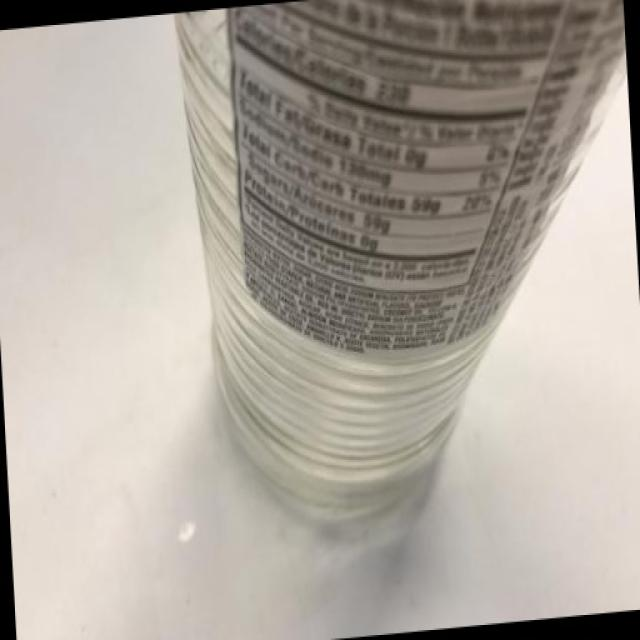vidrio: (142, 5, 633, 556)
